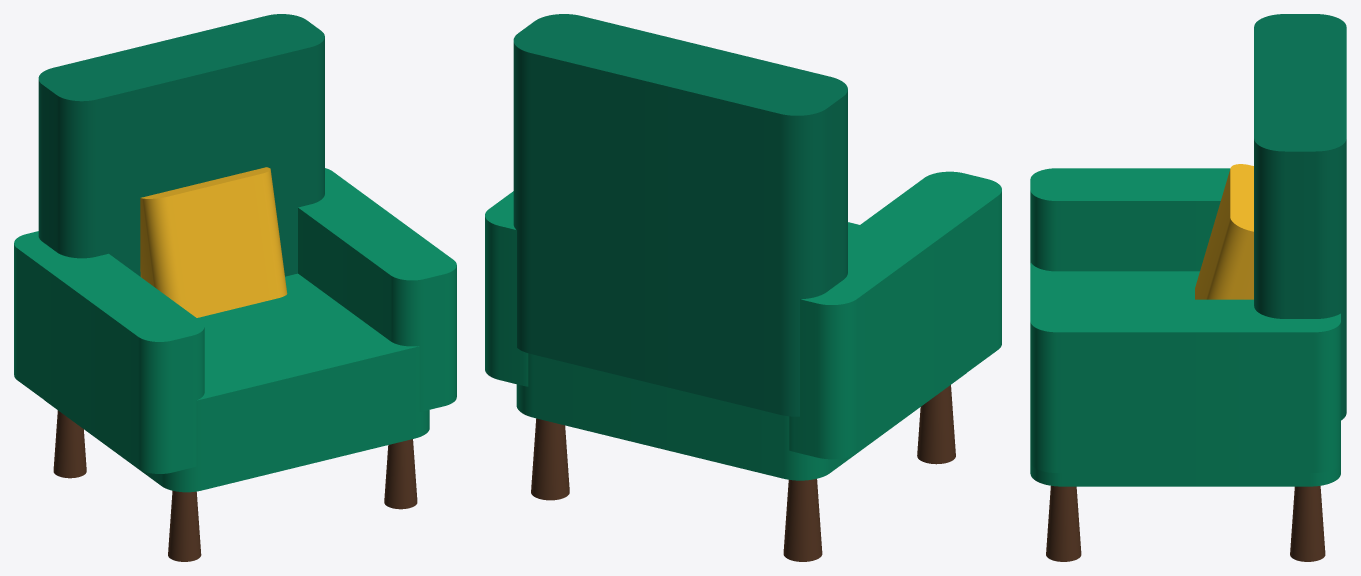
The model's file is armchair.glb.
3 views of the same model, side by side, from view 1: azimuth 30°, elevation 25°; view 2: azimuth 150°, elevation 25°; view 3: azimuth 270°, elevation 25° (orthographic). The views are drawn at different scales.
Visible parts, largest first — view 1: arm_back, arm_seat, arm_L, arm_R, throw_pillow, aleg_0, aleg_1, aleg_2; view 2: arm_back, arm_L, arm_seat, arm_R, aleg_2, aleg_3, aleg_0; view 3: arm_R, arm_back, arm_L, arm_seat, throw_pillow, aleg_1, aleg_3.
Boxes of the visible parts, bbox=[...] form: arm_back: bbox=[38, 14, 324, 276]; arm_seat: bbox=[46, 273, 429, 492]; arm_L: bbox=[14, 231, 204, 473]; arm_R: bbox=[298, 168, 456, 411]; throw_pillow: bbox=[140, 167, 287, 317]; aleg_0: bbox=[168, 490, 201, 561]; aleg_1: bbox=[384, 439, 417, 509]; aleg_2: bbox=[53, 410, 86, 478]; arm_back: bbox=[513, 14, 847, 416]; arm_L: bbox=[789, 171, 1001, 459]; arm_seat: bbox=[516, 222, 966, 480]; arm_R: bbox=[485, 191, 528, 386]; aleg_2: bbox=[783, 479, 822, 561]; aleg_3: bbox=[531, 418, 569, 500]; aleg_0: bbox=[917, 385, 955, 464]; arm_R: bbox=[1030, 299, 1340, 472]; arm_back: bbox=[1254, 14, 1346, 420]; arm_L: bbox=[1030, 168, 1230, 271]; arm_seat: bbox=[1030, 263, 1340, 486]; throw_pillow: bbox=[1195, 164, 1253, 299]; aleg_1: bbox=[1046, 486, 1081, 561]; aleg_3: bbox=[1290, 486, 1325, 561].
Size of the model in its own units: 0.525 by 0.62 by 0.4275.
